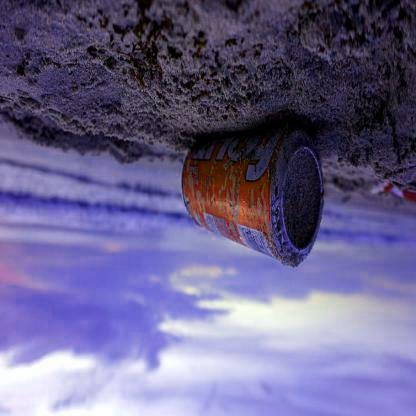Metal: (180, 118, 326, 274)
